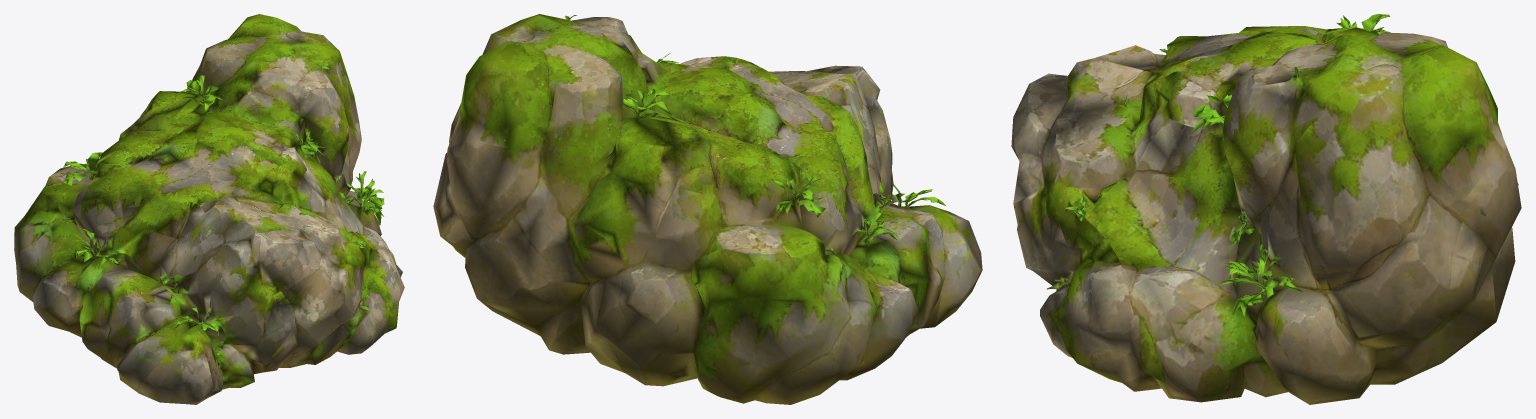
The model's file is rock.glb.
3 renders of one model, left to right at view 1: azimuth 30°, elevation 25°; view 2: azimuth 150°, elevation 25°; view 3: azimuth 270°, elevation 25°, orthographic. The views are drawn at different scales.
Visible parts, largest first — view 1: tripo_node_11c3448f-ec42-4b7a-8b53-44099cace169; view 2: tripo_node_11c3448f-ec42-4b7a-8b53-44099cace169; view 3: tripo_node_11c3448f-ec42-4b7a-8b53-44099cace169.
Part boxes in pixels (x1,y1,x2,y2): tripo_node_11c3448f-ec42-4b7a-8b53-44099cace169: (14,14,404,404); tripo_node_11c3448f-ec42-4b7a-8b53-44099cace169: (433,14,982,404); tripo_node_11c3448f-ec42-4b7a-8b53-44099cace169: (1011,14,1521,404).
Size of the model in its own units: 0.9771 by 0.6501 by 0.9028.
Materials: 1 (1 with a texture image).
